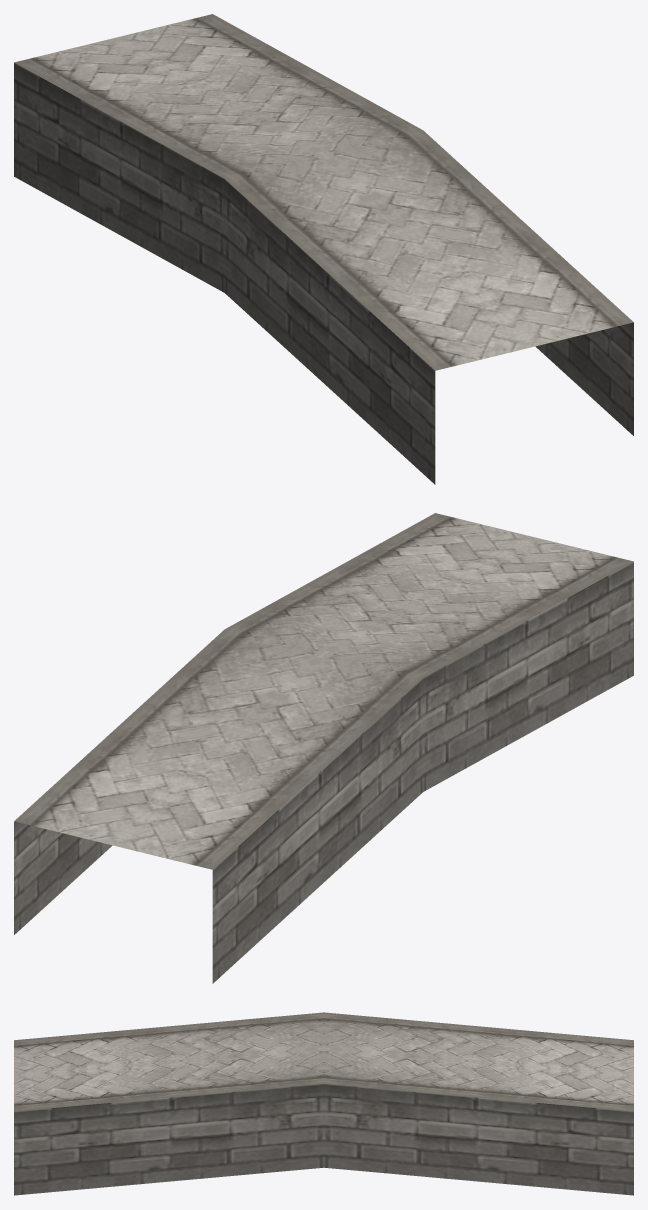
The model's file is QSMY_City_Wujian_02.FBX.
3 renders of one model, top to bottom at view 1: azimuth 30°, elevation 25°; view 2: azimuth 150°, elevation 25°; view 3: azimuth 270°, elevation 25°, orthographic. The views are drawn at different scales.
Visible parts, largest first — view 1: Box03; view 2: Box03; view 3: Box03.
Boxes of the visible parts, x1=… form: Box03: x1=14, y1=14, x2=633, y2=484; Box03: x1=14, y1=513, x2=633, y2=983; Box03: x1=14, y1=1012, x2=633, y2=1195.
Bounding box in the file's own units: 18.32 × 13.38 × 67.27.
